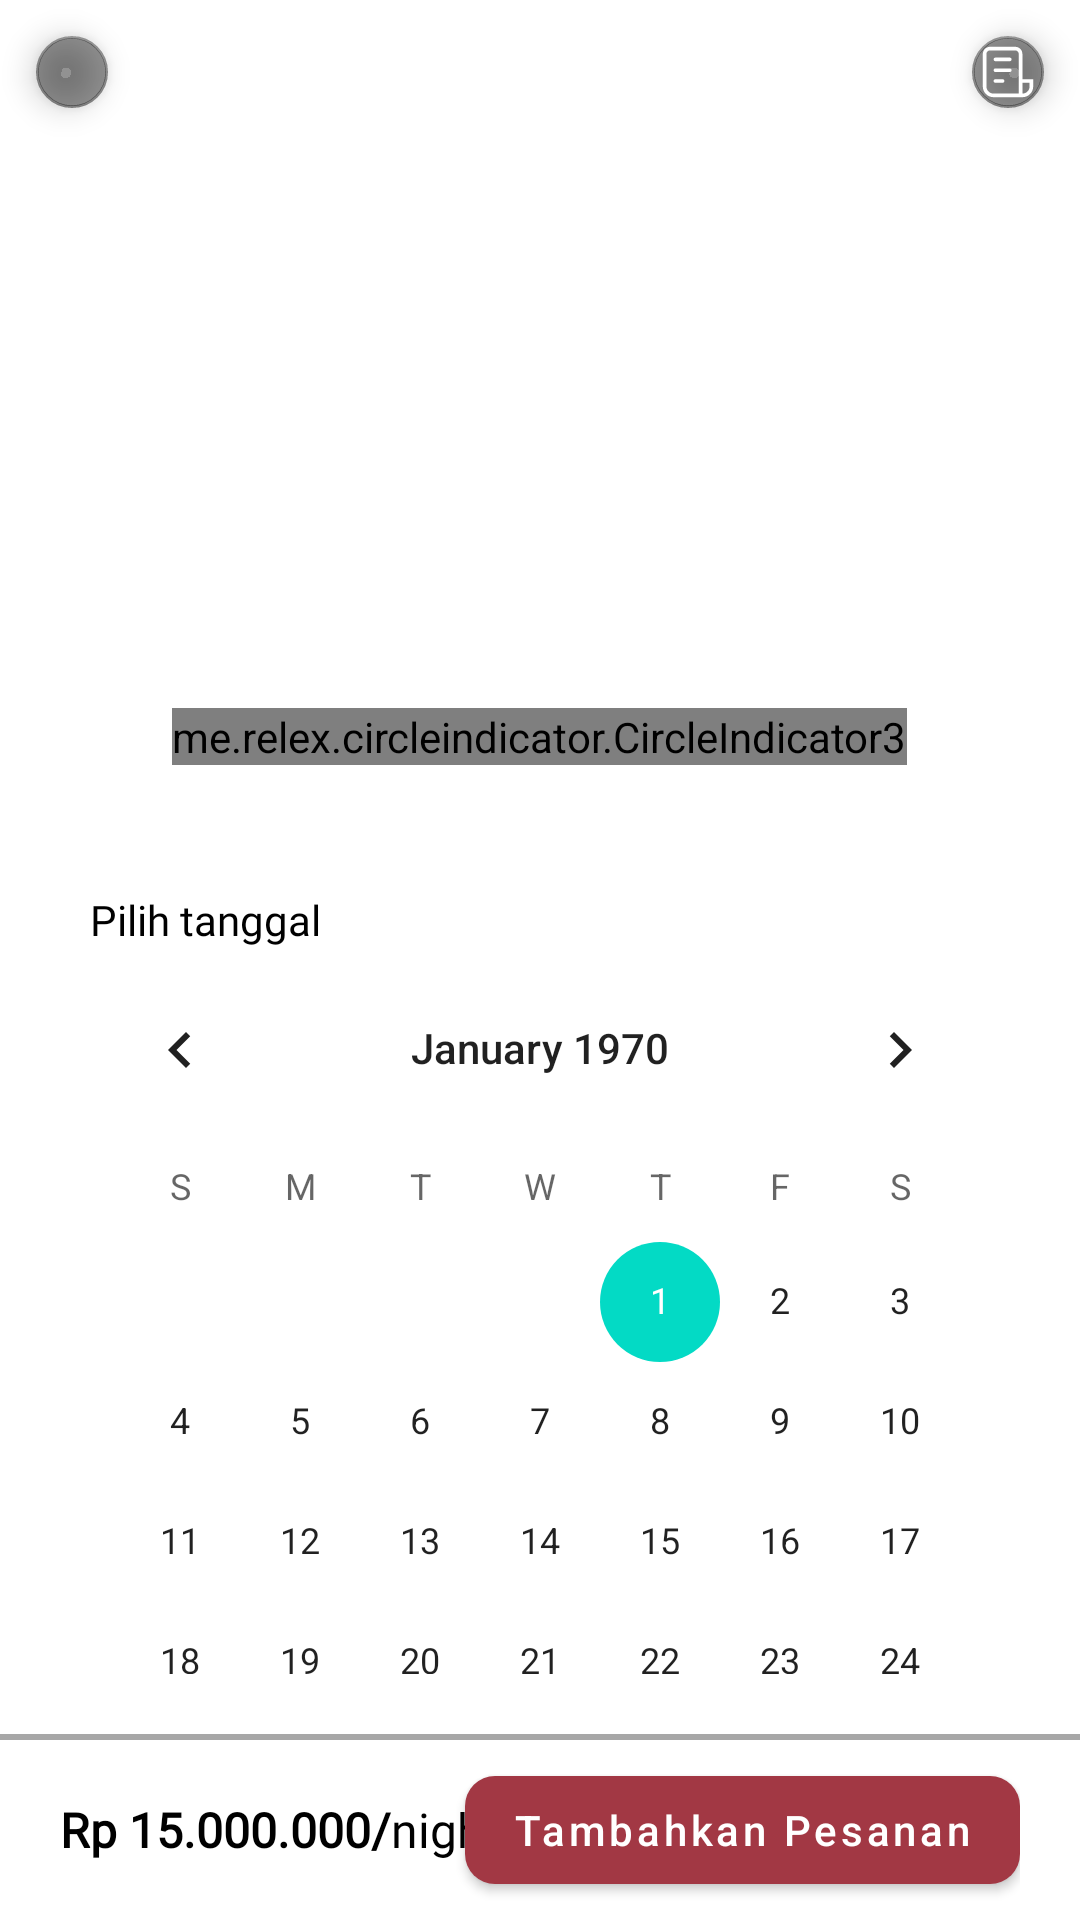

Where to tap for icons on this 1080w x 1920h app screen, as (x,y):
list: (1009,72)
